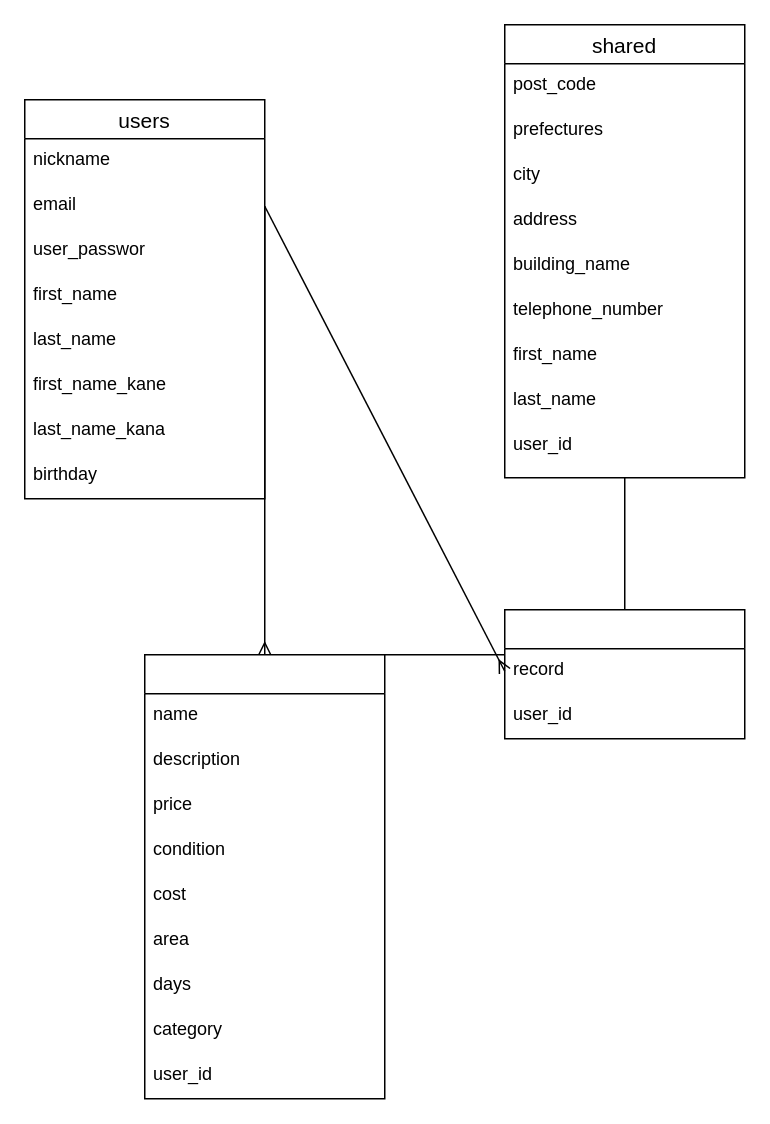
Some shapes in this 770 by 1124 pixel diagram are drawn without their labels. Here are the shapes that lost their labels. From the top down, the box of each, then its label:
(503, 608, 745, 739): orders
(143, 653, 385, 1099): items
